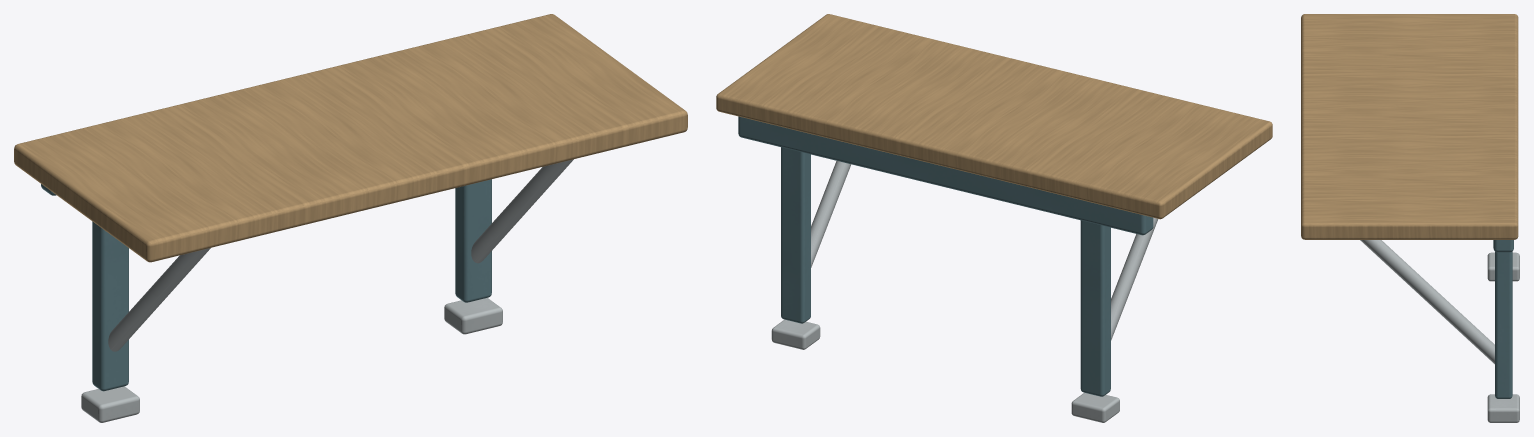
File: gorgehold-survivor-gallery-and-operations-gallery-fold-bf9ece0b__32858.glb
3 views of the same model, side by side, from view 1: azimuth 30°, elevation 25°; view 2: azimuth 150°, elevation 25°; view 3: azimuth 270°, elevation 25° (orthographic). The views are drawn at different scales.
Visible parts, largest first — view 1: gallery-fold-down-dining-table; view 2: gallery-fold-down-dining-table; view 3: gallery-fold-down-dining-table.
Part boxes in pixels (bbox=[...]): gallery-fold-down-dining-table: bbox=[14, 14, 687, 422]; gallery-fold-down-dining-table: bbox=[716, 14, 1272, 422]; gallery-fold-down-dining-table: bbox=[1301, 14, 1519, 422].
Size of the model in its own units: 1.7 by 0.8525 by 0.745.
3 materials, 3 textured.
